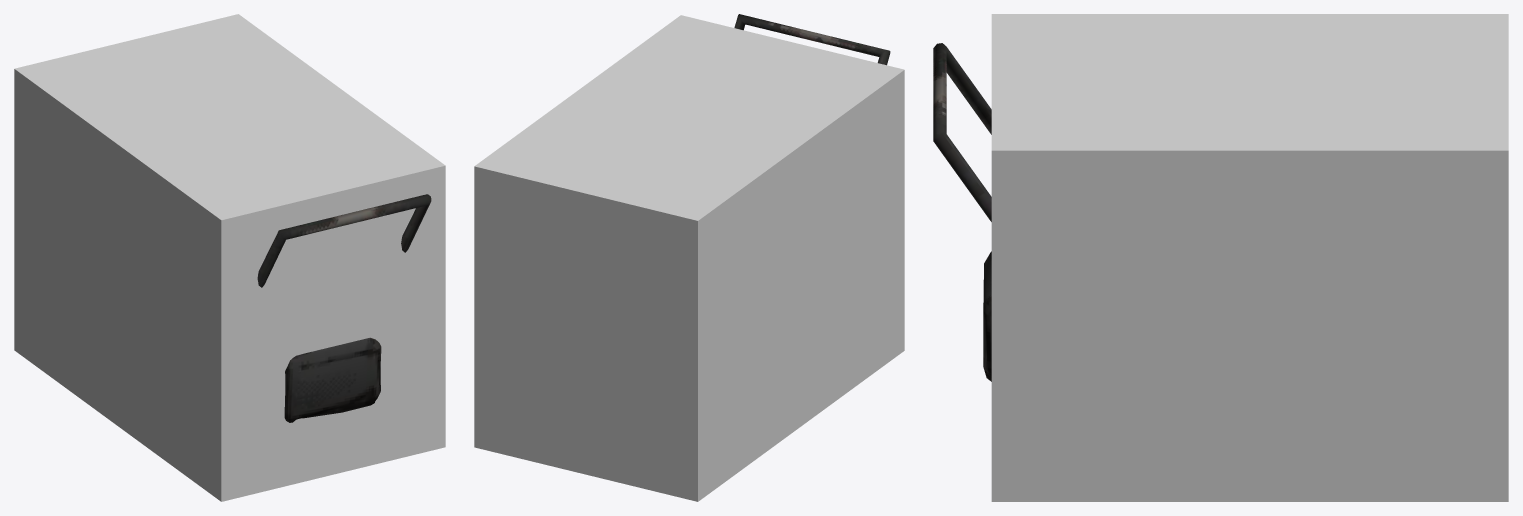
Rendered from Lawnmower.glb.
3 renders of one model, left to right at view 1: azimuth 30°, elevation 25°; view 2: azimuth 150°, elevation 25°; view 3: azimuth 270°, elevation 25°, orthographic. The views are drawn at different scales.
Parts seen in each view (by area): view 1: Col_1__Plastic__000000, Tex__SmoothPlastic__FFFFFF; view 2: Col_1__Plastic__000000, Tex__SmoothPlastic__FFFFFF; view 3: Col_1__Plastic__000000, Tex__SmoothPlastic__FFFFFF.
Part boxes in pixels (left/top/right/bottom): Col_1__Plastic__000000: left=14, top=14, right=445, bottom=501; Tex__SmoothPlastic__FFFFFF: left=257, top=194, right=431, bottom=422; Col_1__Plastic__000000: left=474, top=15, right=904, bottom=501; Tex__SmoothPlastic__FFFFFF: left=734, top=14, right=890, bottom=65; Col_1__Plastic__000000: left=991, top=14, right=1508, bottom=501; Tex__SmoothPlastic__FFFFFF: left=933, top=43, right=991, bottom=381.
Bounding box in the file's own units: 0.7 × 0.84 × 1.25.
Materials: 1 (1 with a texture image).
